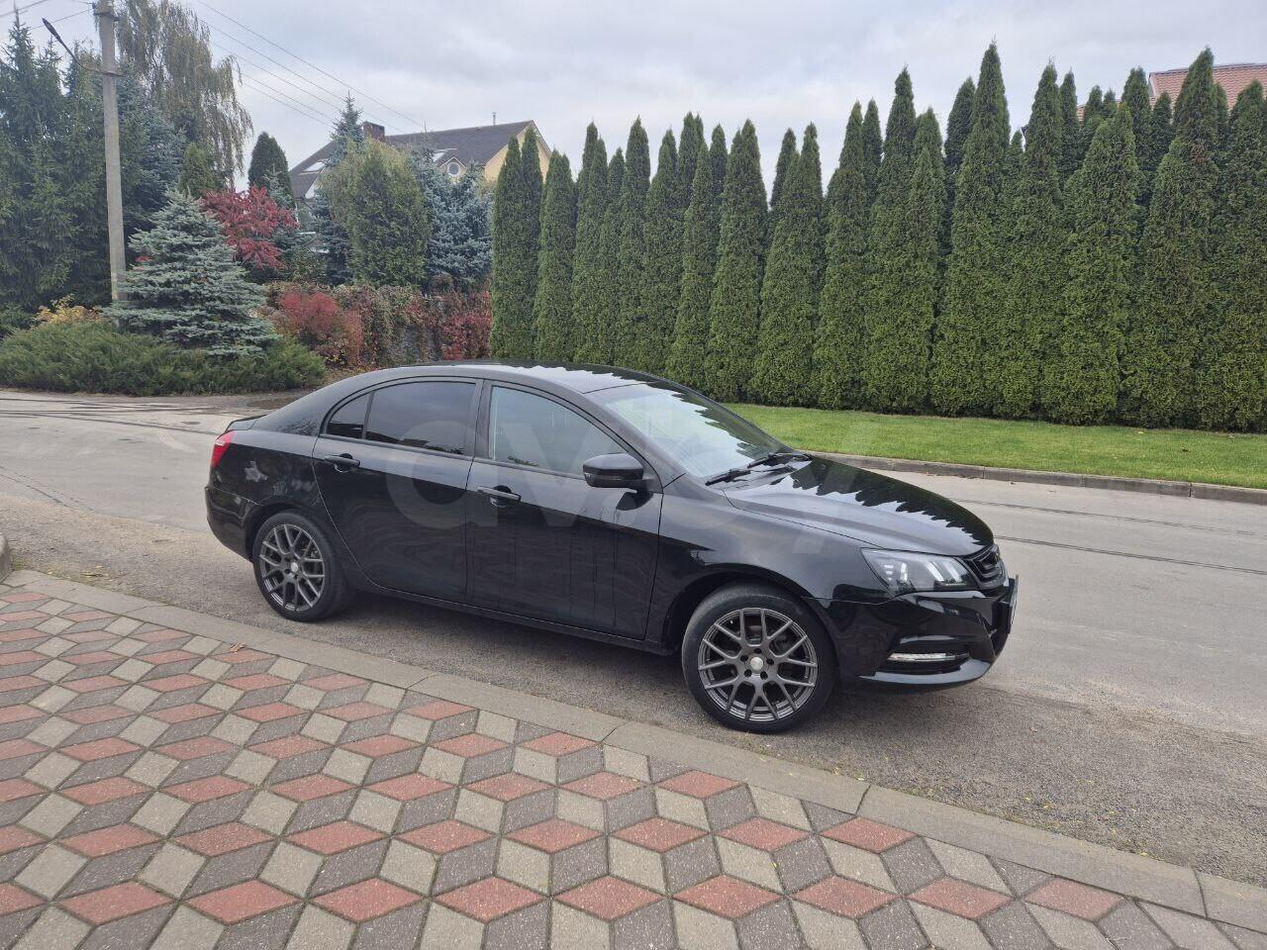Emgrand_2019-2021: (205, 360, 1018, 732)
